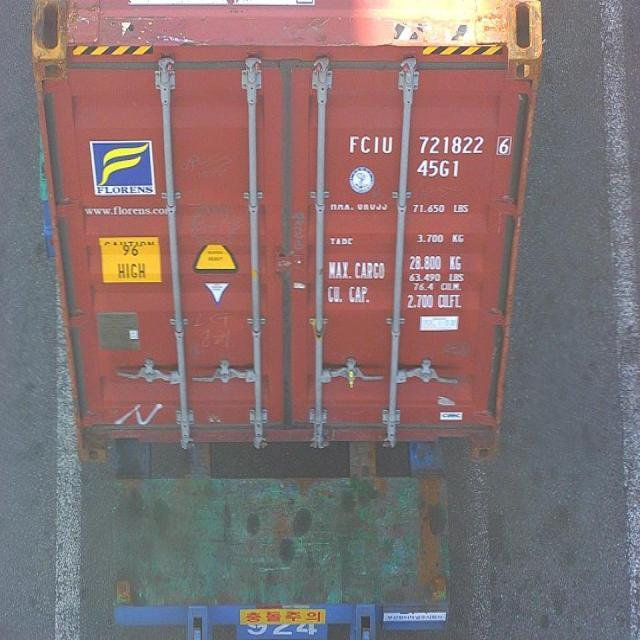ISO: (419, 158, 462, 178)
container_number: (354, 134, 512, 156)
